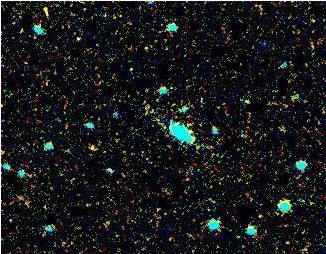star: (77, 130, 107, 160)
